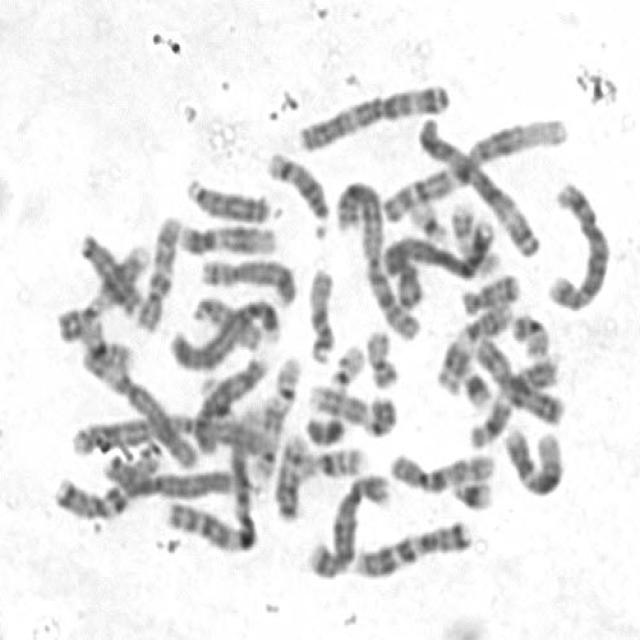A1: (373, 105, 574, 224), (157, 400, 265, 554)
A2: (328, 170, 423, 342), (62, 403, 274, 458)
A3: (409, 109, 544, 258), (290, 72, 453, 153)
B4: (162, 288, 282, 372), (376, 212, 500, 282)
B5: (300, 463, 394, 580), (539, 171, 612, 311)
C10: (129, 206, 184, 333), (382, 440, 498, 494)
C11: (462, 344, 564, 451), (431, 293, 516, 395)
C12: (496, 416, 566, 499), (170, 212, 280, 257)
C6: (80, 353, 200, 475), (97, 448, 248, 500)
C7: (45, 436, 166, 522), (345, 509, 474, 580)
C8: (186, 347, 271, 455), (193, 248, 299, 308)
C9: (50, 236, 151, 344), (300, 374, 399, 439)
D13: (72, 224, 144, 317), (178, 167, 272, 224)
D14: (259, 141, 332, 239), (267, 425, 312, 523)
D15: (186, 287, 264, 351), (300, 258, 337, 365)
E16: (74, 313, 137, 374), (278, 446, 366, 484)
E17: (245, 346, 304, 484), (443, 194, 502, 276)
E18: (453, 263, 522, 315), (381, 242, 425, 311)
F19: (401, 189, 451, 245), (195, 377, 238, 434)
F20: (359, 320, 402, 391), (504, 304, 552, 361)
G21: (444, 469, 496, 512), (452, 358, 494, 410)
G22: (321, 334, 366, 391), (267, 348, 304, 408)
X: (469, 328, 567, 428)
Y: (297, 404, 348, 446)
